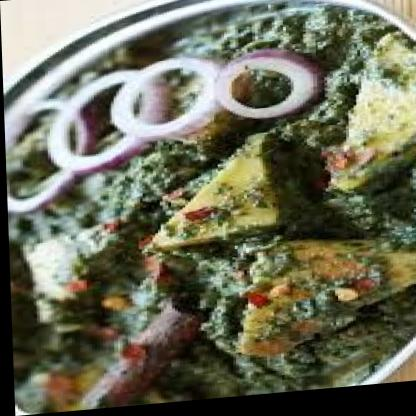palak_paneer: (1, 6, 416, 416)
